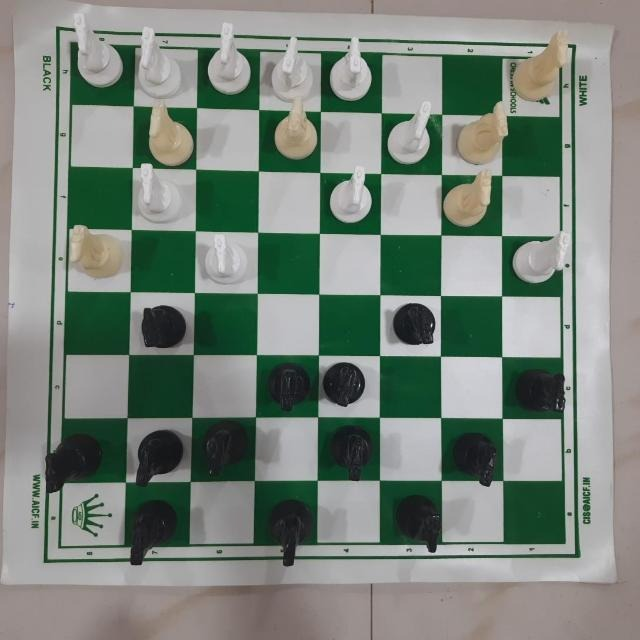black-knight: (42, 426, 103, 496), (196, 419, 256, 483), (125, 429, 182, 491), (266, 500, 317, 568), (391, 491, 442, 553), (262, 360, 314, 415), (327, 424, 374, 484), (450, 426, 495, 487), (515, 367, 566, 419), (320, 359, 369, 409), (137, 302, 186, 352), (390, 302, 438, 350)
white-knight: (508, 28, 578, 102), (65, 10, 126, 89), (129, 101, 194, 165), (124, 498, 184, 567), (265, 35, 322, 107), (451, 101, 511, 168), (446, 169, 510, 227), (135, 23, 182, 101), (510, 233, 571, 292), (132, 159, 186, 224), (206, 21, 251, 98), (387, 98, 438, 163), (327, 34, 374, 102), (326, 161, 374, 227), (202, 230, 250, 287), (272, 92, 314, 156)
